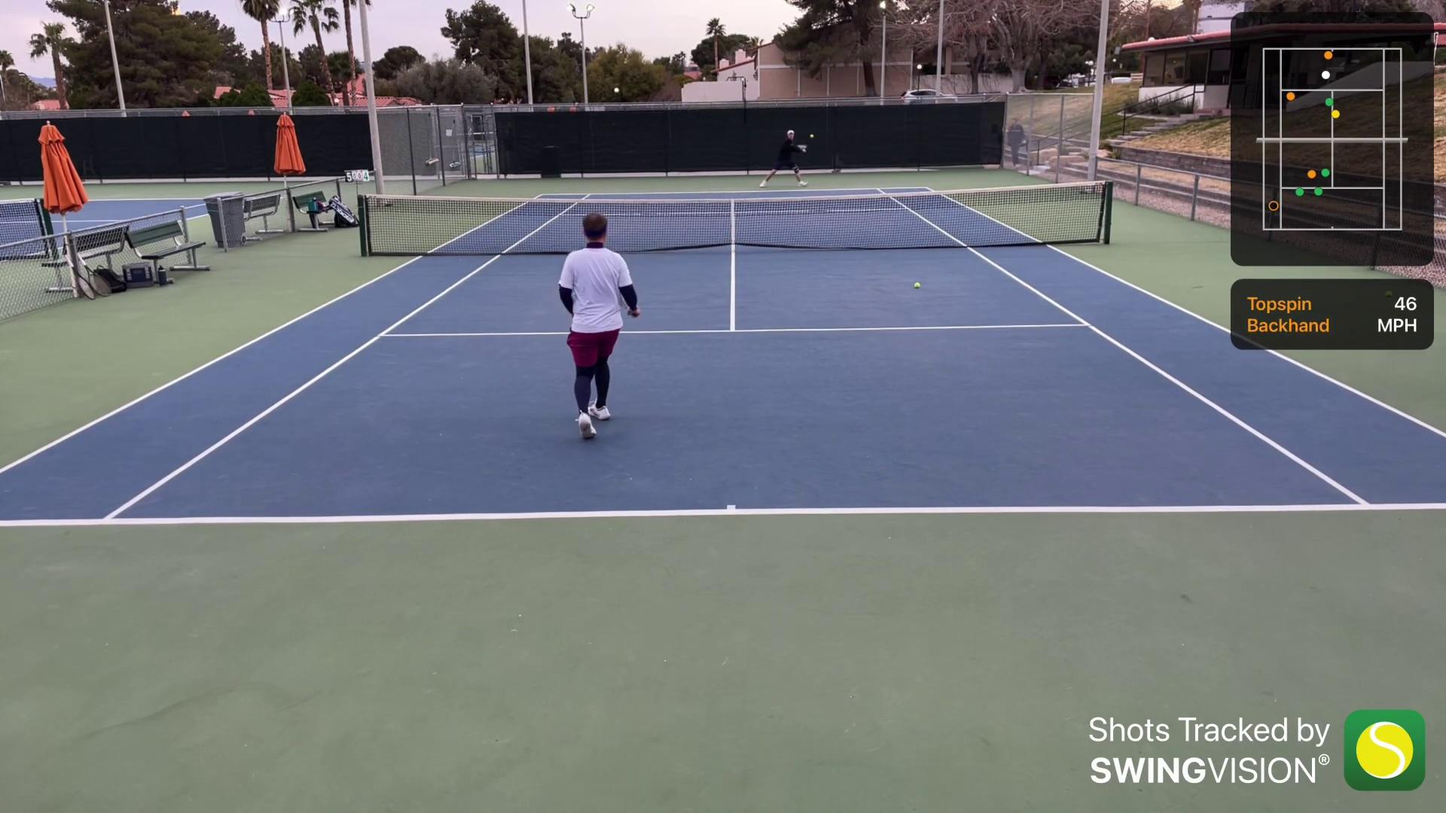ball: (914, 280, 921, 292), (808, 133, 816, 139)
